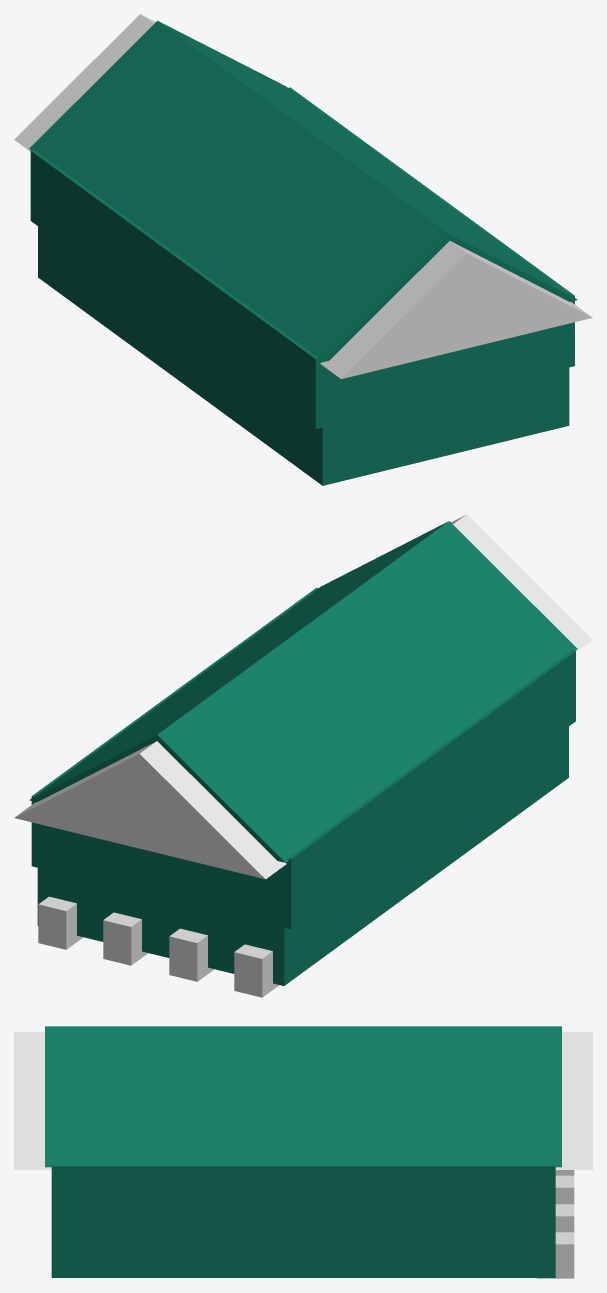
Rendered from warehouse.fbx.
3 renders of one model, top to bottom at view 1: azimuth 30°, elevation 25°; view 2: azimuth 150°, elevation 25°; view 3: azimuth 270°, elevation 25°, orthographic. The views are drawn at different scales.
Parts seen in each view (by area): view 1: Cylinder, Cube, Cylinder.002, Cylinder.001; view 2: Cylinder, Cube, Cylinder.001, Cube.003, Cylinder.002; view 3: Cylinder, Cube, Cylinder.001, Cylinder.002, Cube.003.
Part boxes in pixels (<box>): Cylinder: <box>29,20,577,362</box>; Cube: <box>30,87,574,485</box>; Cylinder.002: <box>320,241,592,378</box>; Cylinder.001: <box>14,14,155,151</box>; Cylinder: <box>29,521,577,862</box>; Cube: <box>31,587,575,985</box>; Cylinder.001: <box>14,741,286,879</box>; Cube.003: <box>38,896,278,997</box>; Cylinder.002: <box>451,514,592,651</box>; Cylinder: <box>45,1026,561,1167</box>; Cube: <box>51,1165,555,1277</box>; Cylinder.001: <box>555,1032,592,1169</box>; Cylinder.002: <box>14,1032,51,1169</box>; Cube.003: <box>536,1170,574,1278</box>.
Size of the model in its own units: 421 by 357 by 919.
